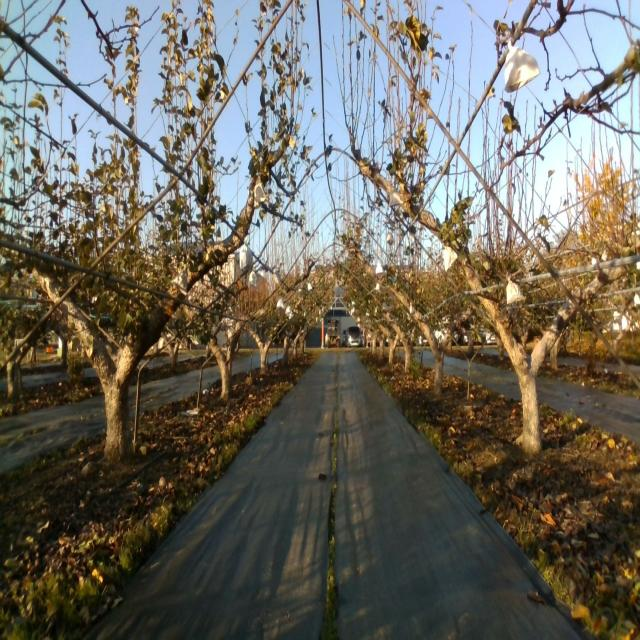pearbags: (503, 31, 540, 93), (506, 273, 525, 305), (254, 179, 269, 209), (441, 246, 457, 274), (239, 242, 253, 272), (174, 266, 188, 294), (388, 190, 404, 208)
